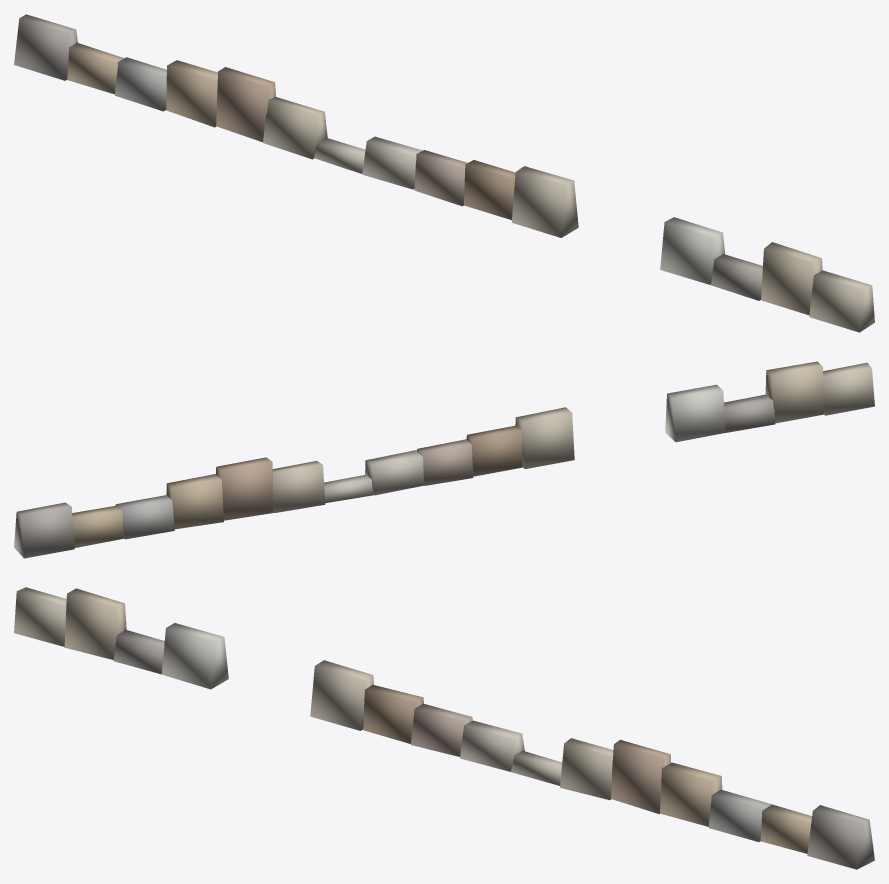
Rendered from farm_-49_-39_far.glb.
The picture shows the model from 3 angles, top to bottom: view 1: azimuth 90°, elevation 25°; view 2: azimuth 150°, elevation 25°; view 3: azimuth 270°, elevation 25°; orthographic projection. The views are drawn at different scales.
Parts seen in each view (by area): view 1: geometry_0; view 2: geometry_0; view 3: geometry_0.
Part boxes in pixels (x1,y1,x2,y2): geometry_0: (14,14,874,332); geometry_0: (14,361,874,558); geometry_0: (14,587,874,869).
Bounding box in the file's own units: 15.59 × 1.82 × 21.67.
